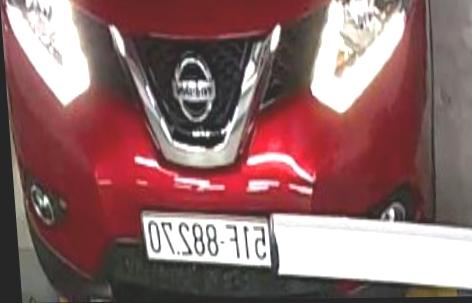License_Plate: (143, 214, 271, 266)
